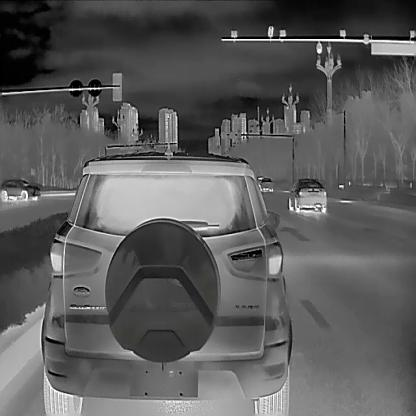car: (41, 151, 292, 416), (286, 178, 326, 211), (0, 177, 40, 201), (258, 176, 273, 191)
